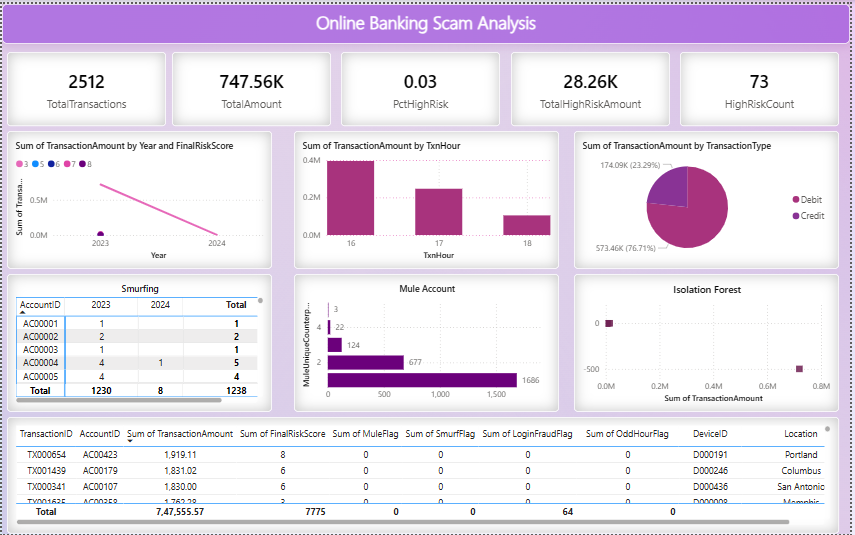

Layout of this report page (visuals, bound fields, positions):
{"tool":"powerbi","page":{"name":"Page 1","canvas":[1280,800],"ordinal":0},"visuals":[{"type":"textbox","box":[0,0,1280,60],"z":0},{"type":"card","fields":{"Values":["Transactions.TotalTransactions"]},"box":[8,72,240,112],"z":1000},{"type":"card","fields":{"Values":["Transactions.HighRiskCount"]},"box":[1024,72,240,112],"z":2000},{"type":"card","fields":{"Values":["Transactions.PctHighRisk"]},"box":[512,72,240,112],"z":3000},{"type":"card","fields":{"Values":["Transactions.TotalAmount"]},"box":[256,72,240,112],"z":4000},{"type":"card","fields":{"Values":["Transactions.TotalHighRiskAmount"]},"box":[768,72,240,112],"z":5000},{"type":"lineChart","fields":{"Category":["Transactions.TransactionDate.Variation.Date Hierarchy.Year","Transactions.TransactionDate.Variation.Date Hierarchy.Quarter","Transactions.TransactionDate.Variation.Date Hierarchy.Month","Transactions.TransactionDate.Variation.Date Hierarchy.Day"],"Y":["Sum(Transactions.TransactionAmount)"],"Series":["Transactions.FinalRiskScore"]},"box":[8,192,400,208],"z":6000},{"type":"clusteredColumnChart","fields":{"Category":["Transactions.TxnHour"],"Y":["Sum(Transactions.TransactionAmount)"]},"box":[440,192,400,208],"z":7000},{"type":"pieChart","fields":{"Category":["Transactions.TransactionType"],"Y":["Sum(Transactions.TransactionAmount)"]},"box":[864,192,400,208],"z":8000},{"type":"pivotTable","title":"Smurfing","fields":{"Rows":["Transactions.AccountID"],"Columns":["Transactions.TransactionDate.Variation.Date Hierarchy.Year","Transactions.TransactionDate.Variation.Date Hierarchy.Quarter","Transactions.TransactionDate.Variation.Date Hierarchy.Month","Transactions.TransactionDate.Variation.Date Hierarchy.Day"],"Values":["Sum(Transactions.SmurfCount24h)"]},"box":[8,408,400,208],"z":9000},{"type":"barChart","title":"Mule Account","fields":{"Y":["CountNonNull(Transactions.AccountID)"],"Category":["Transactions.MuleUniqueCounterparty30d"]},"box":[440,408,400,208],"z":10000},{"type":"scatterChart","title":"Isolation Forest","fields":{"X":["Sum(Transactions.TransactionAmount)"],"Y":["Sum(Transactions.IForestScore)"],"Category":["Transactions.FinalRiskScore"]},"box":[864,408,400,208],"z":11000},{"type":"tableEx","fields":{"Values":["Transactions.TransactionID","Transactions.AccountID","Sum(Transactions.TransactionAmount)","Sum(Transactions.FinalRiskScore)","Sum(Transactions.MuleFlag)","Sum(Transactions.SmurfFlag)","Sum(Transactions.LoginFraudFlag)","Sum(Transactions.OddHourFlag)","Transactions.DeviceID","Transactions.Location"]},"box":[8,624,1256,176],"z":12000}]}

Visuals, with their boxes in screenshot pixels (x1, y1, x2, y2), scaled from the page's 1280x800 canvas onto the 855x535 screenshot:
textbox: 0, 0, 854, 40
card - Transactions.TotalTransactions: 5, 48, 166, 123
card - Transactions.HighRiskCount: 684, 48, 844, 123
card - Transactions.PctHighRisk: 342, 48, 502, 123
card - Transactions.TotalAmount: 171, 48, 331, 123
card - Transactions.TotalHighRiskAmount: 513, 48, 673, 123
lineChart - Transactions.TransactionDate.Variation.Date Hierarchy.Year x Transactions.TransactionDate.Variation.Date Hierarchy.Quarter: 5, 128, 273, 268
clusteredColumnChart - Transactions.TxnHour x Sum(Transactions.TransactionAmount): 294, 128, 561, 268
pieChart - Transactions.TransactionType x Sum(Transactions.TransactionAmount): 577, 128, 844, 268
"Smurfing" pivotTable: 5, 273, 273, 412
"Mule Account" barChart: 294, 273, 561, 412
"Isolation Forest" scatterChart: 577, 273, 844, 412
tableEx - Transactions.TransactionID x Transactions.AccountID: 5, 417, 844, 534
